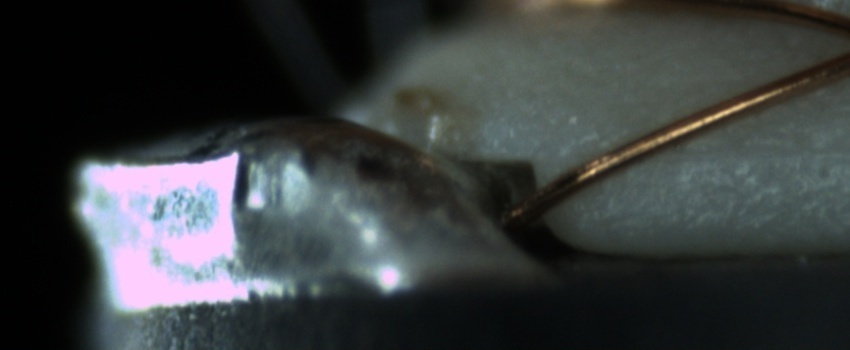DL: (672, 118, 850, 185)
